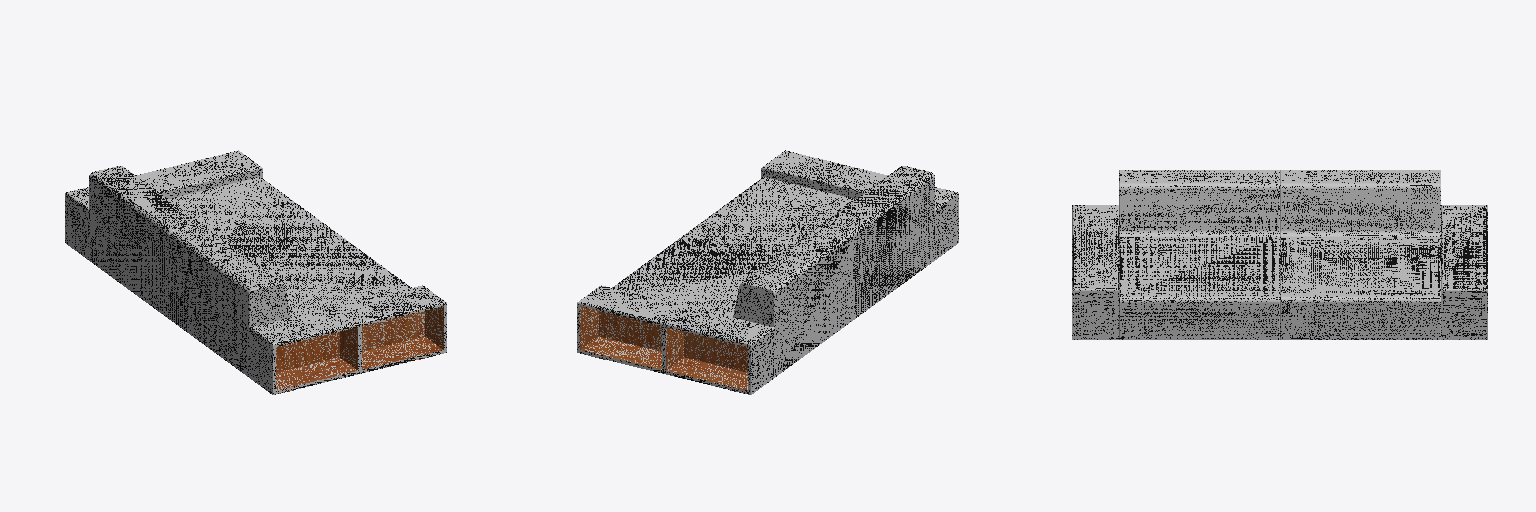
3 renders of one model, left to right at view 1: azimuth 30°, elevation 25°; view 2: azimuth 150°, elevation 25°; view 3: azimuth 270°, elevation 25°, orthographic.
Parts seen in each view (by area): view 1: mesh1_mesh1-geometry; view 2: mesh1_mesh1-geometry; view 3: mesh1_mesh1-geometry.
Boxes of the visible parts, x1=… form: mesh1_mesh1-geometry: x1=65, y1=150, x2=446, y2=394; mesh1_mesh1-geometry: x1=577, y1=150, x2=958, y2=394; mesh1_mesh1-geometry: x1=1072, y1=170, x2=1487, y2=339.
Bounding box in the file's own units: 0.4254 × 0.2127 × 0.8797.
Materials: 3 (1 with a texture image).